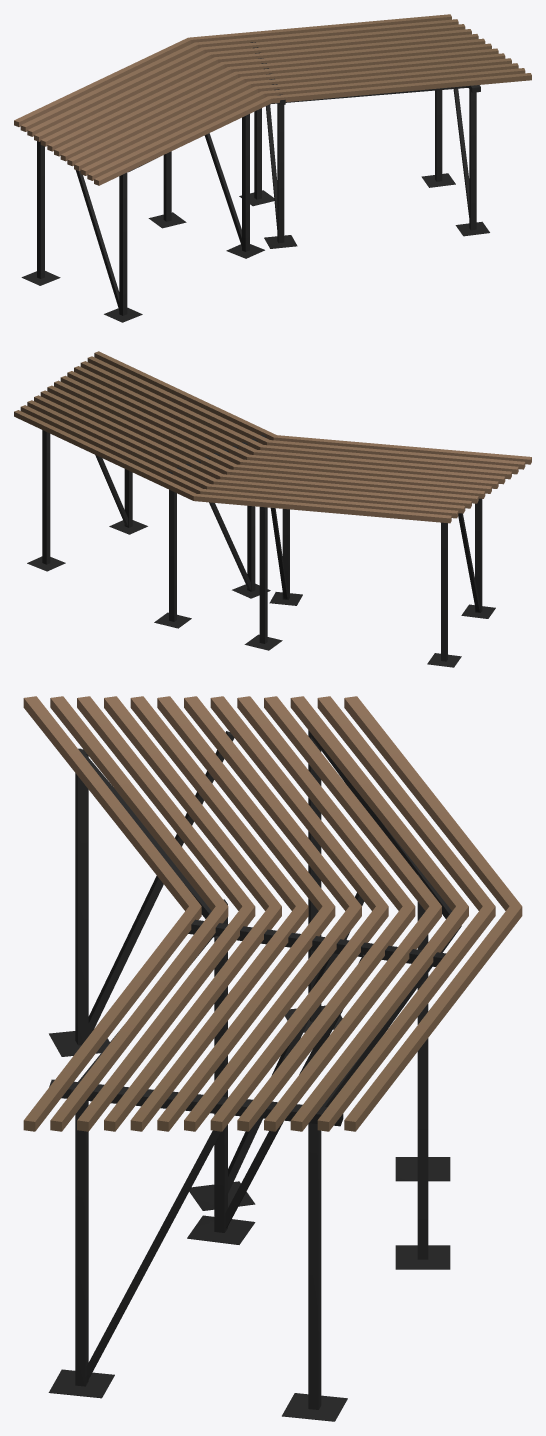
File: canopy.fbx
3 views of the same model, one above another, from view 1: azimuth 30°, elevation 25°; view 2: azimuth 150°, elevation 25°; view 3: azimuth 270°, elevation 25° (orthographic). The views are drawn at different scales.
Parts seen in each view (by area): view 1: Cube.003; view 2: Cube.003; view 3: Cube.003.
Part boxes in pixels (bbox=[...]): Cube.003: bbox=[14, 14, 531, 322]; Cube.003: bbox=[14, 351, 531, 667]; Cube.003: bbox=[23, 696, 522, 1421].
Bounding box in the file's own units: 1977 × 665 × 978.
